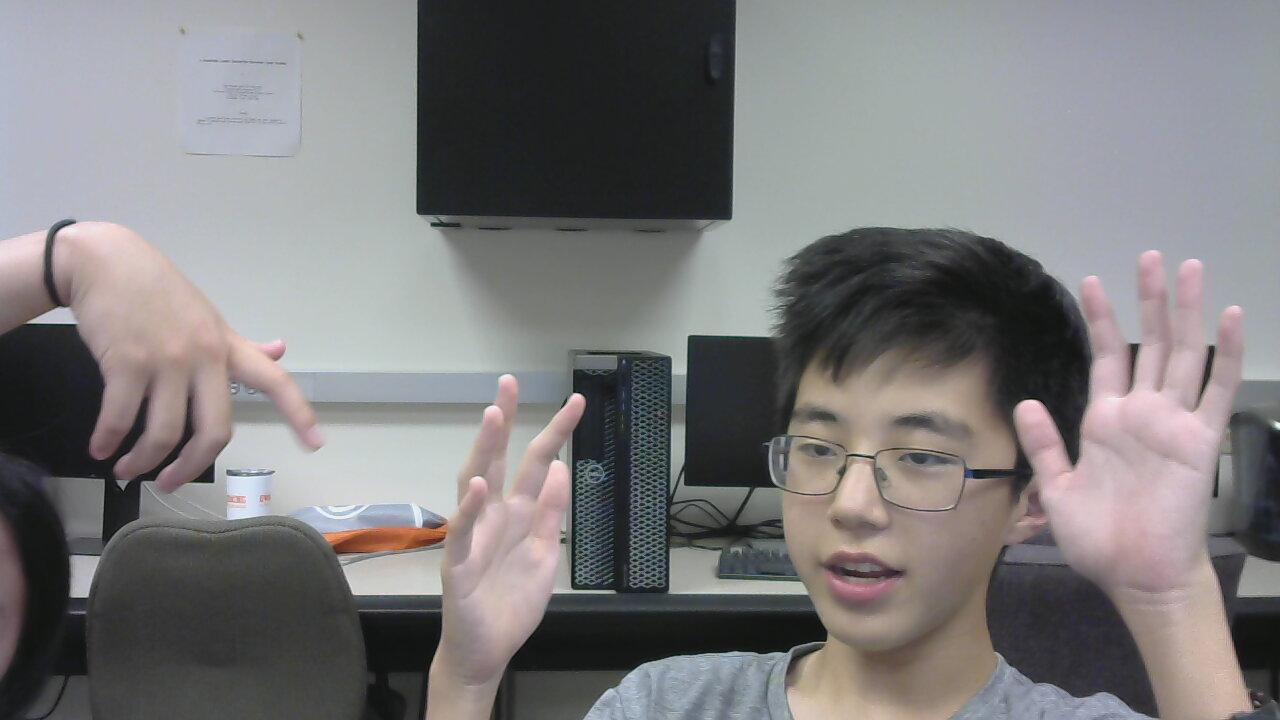hands: (15, 199, 333, 478), (996, 238, 1250, 587), (391, 356, 583, 652)
